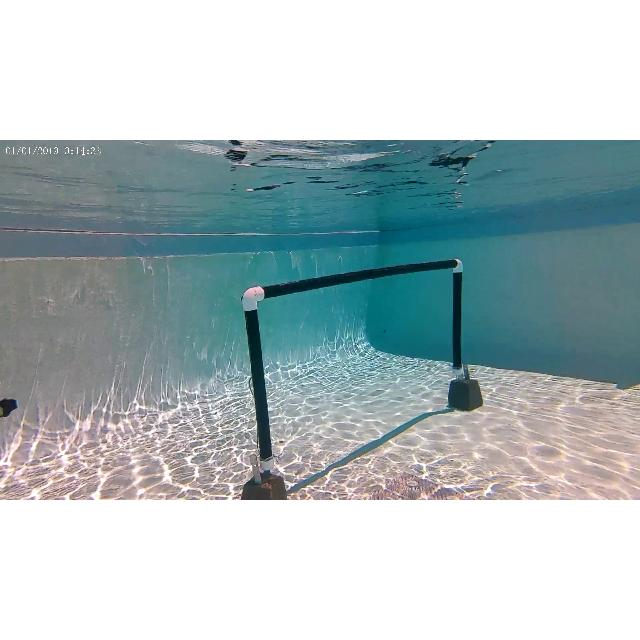prequal gate: (242, 260, 464, 470)
prequal gate leg l: (234, 280, 286, 474)
prequal gate leg r: (441, 257, 471, 379)
